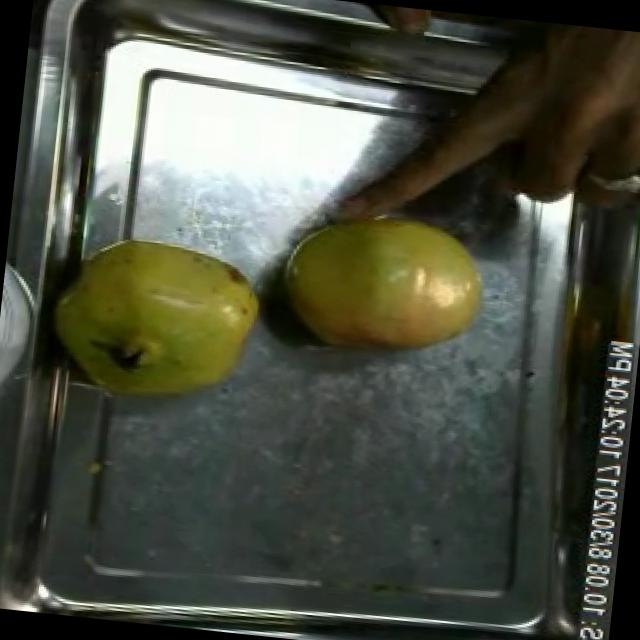fruit: (34, 214, 286, 431), (267, 189, 506, 370), (500, 19, 640, 210)
